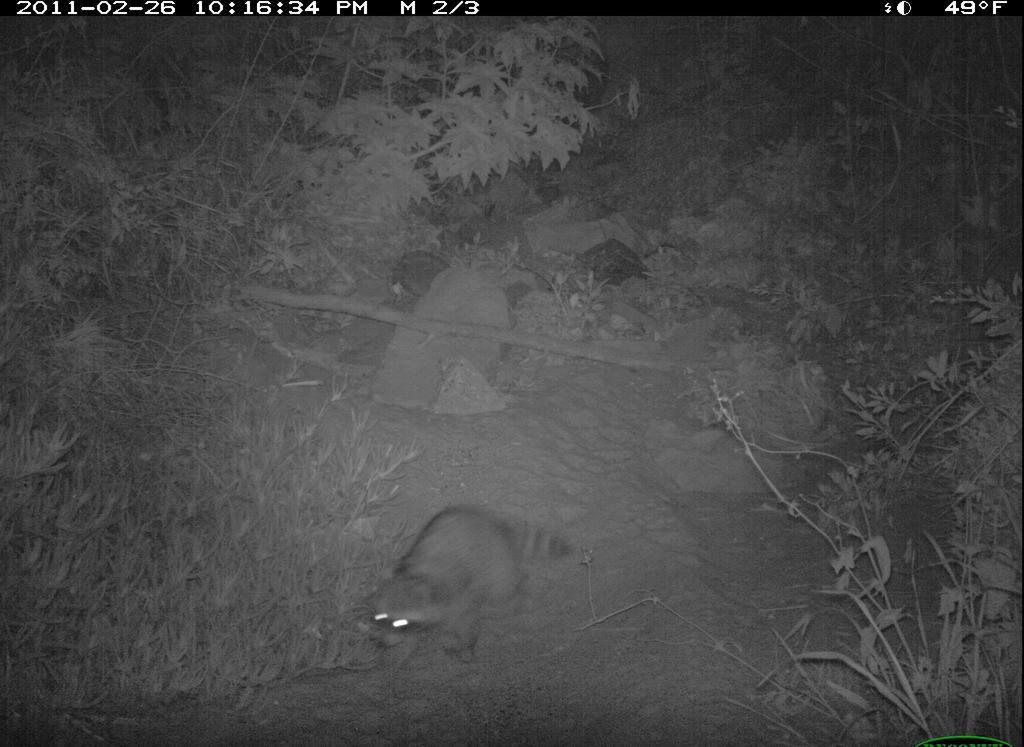raccoon: (354, 502, 582, 667)
